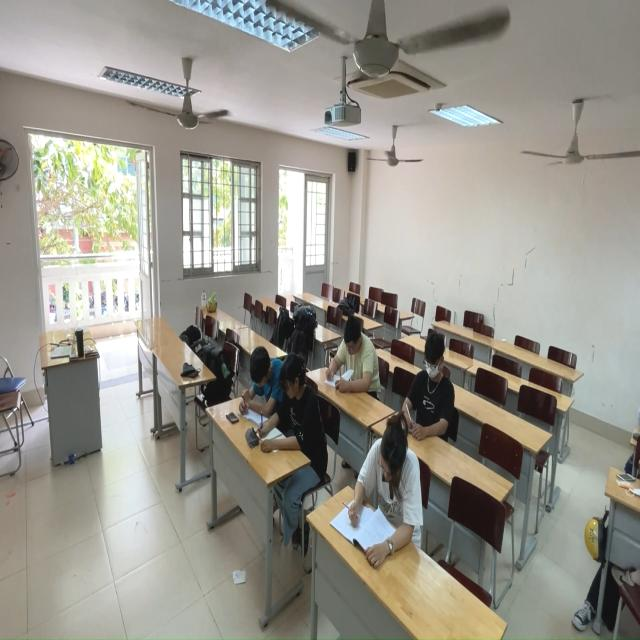read: (338, 407, 426, 563), (256, 354, 327, 460), (399, 334, 458, 437), (228, 336, 289, 422), (321, 312, 383, 396)
